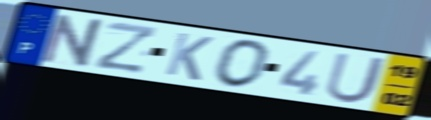4: (276, 49, 322, 97)
K: (162, 30, 216, 83)
N: (37, 12, 110, 70)
O: (212, 38, 273, 90)
U: (323, 51, 390, 105)
Z: (92, 19, 161, 75)
